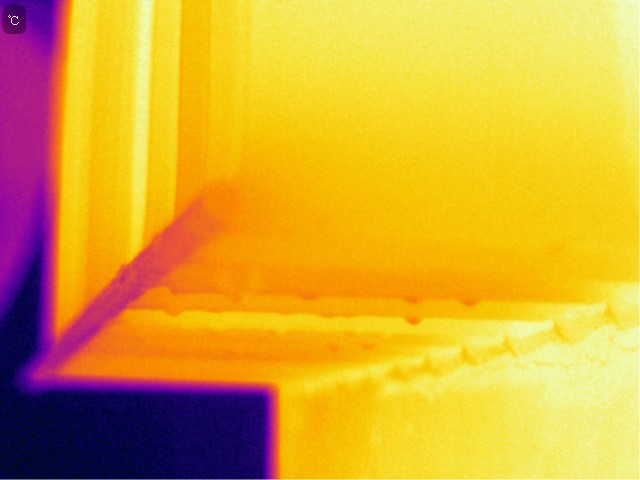Oil: (295, 288, 325, 306), (402, 315, 425, 328), (403, 295, 426, 307), (458, 295, 479, 308), (363, 340, 380, 356)
